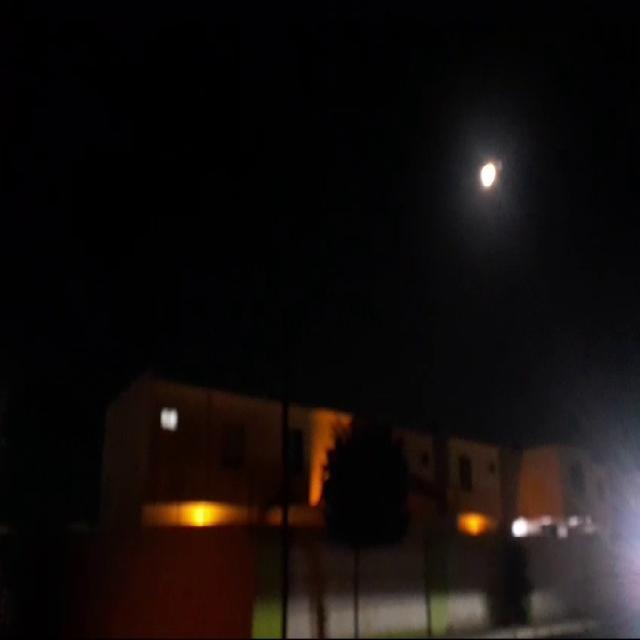moon: (478, 154, 498, 188)
